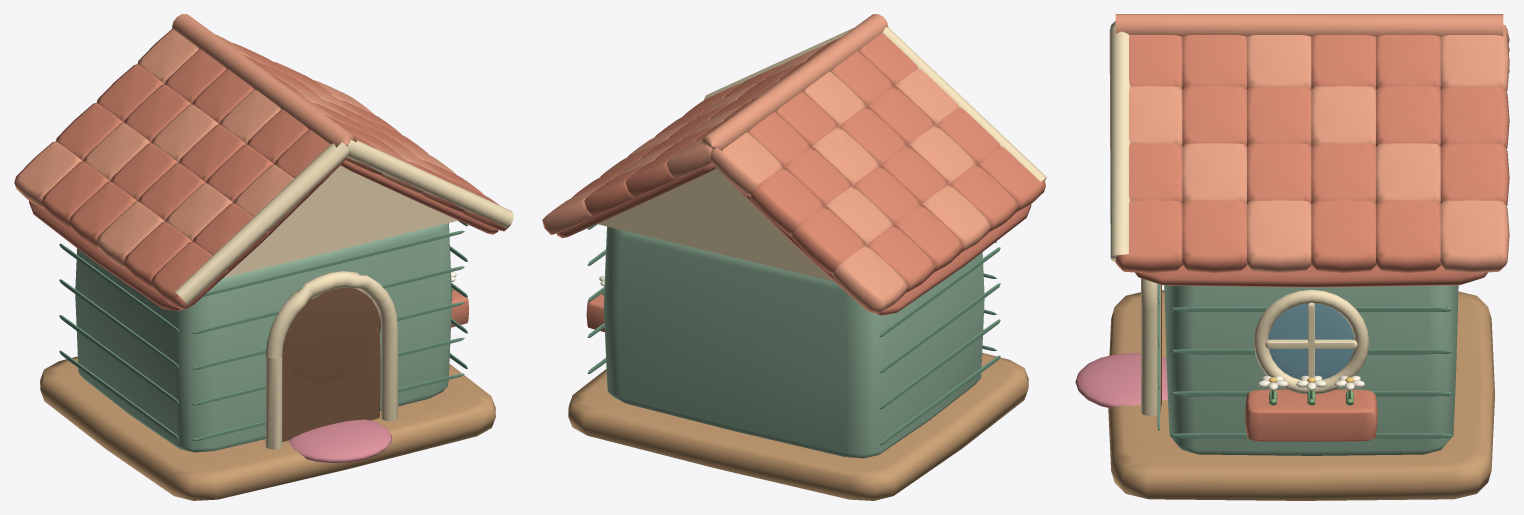
The model's file is casinha-cartoon.obj.
The picture shows the model from 3 angles, left to right: view 1: azimuth 30°, elevation 25°; view 2: azimuth 150°, elevation 25°; view 3: azimuth 270°, elevation 25°; orthographic projection. The views are drawn at different scales.
Parts seen in each view (by area): view 1: madeira, volume, curva, frontao; view 2: madeira, volume, frontao, curva; view 3: volume, madeira, curva, aro.
Part boxes in pixels (left/top/right/bottom): madeira: left=29, top=160, right=498, bottom=500; volume: left=14, top=29, right=510, bottom=463; curva: left=172, top=14, right=513, bottom=449; frontao: left=224, top=165, right=458, bottom=277; madeira: left=557, top=163, right=1031, bottom=500; volume: left=542, top=33, right=1045, bottom=314; frontao: left=597, top=168, right=834, bottom=281; curva: left=701, top=14, right=1046, bottom=181; volume: left=1075, top=25, right=1509, bottom=408; madeira: left=1108, top=265, right=1494, bottom=500; curva: left=1109, top=14, right=1503, bottom=415; aro: left=1253, top=289, right=1368, bottom=393.
Bounding box in the file's own units: 2.37 × 2.16 × 2.15.
1 material, 1 textured.
